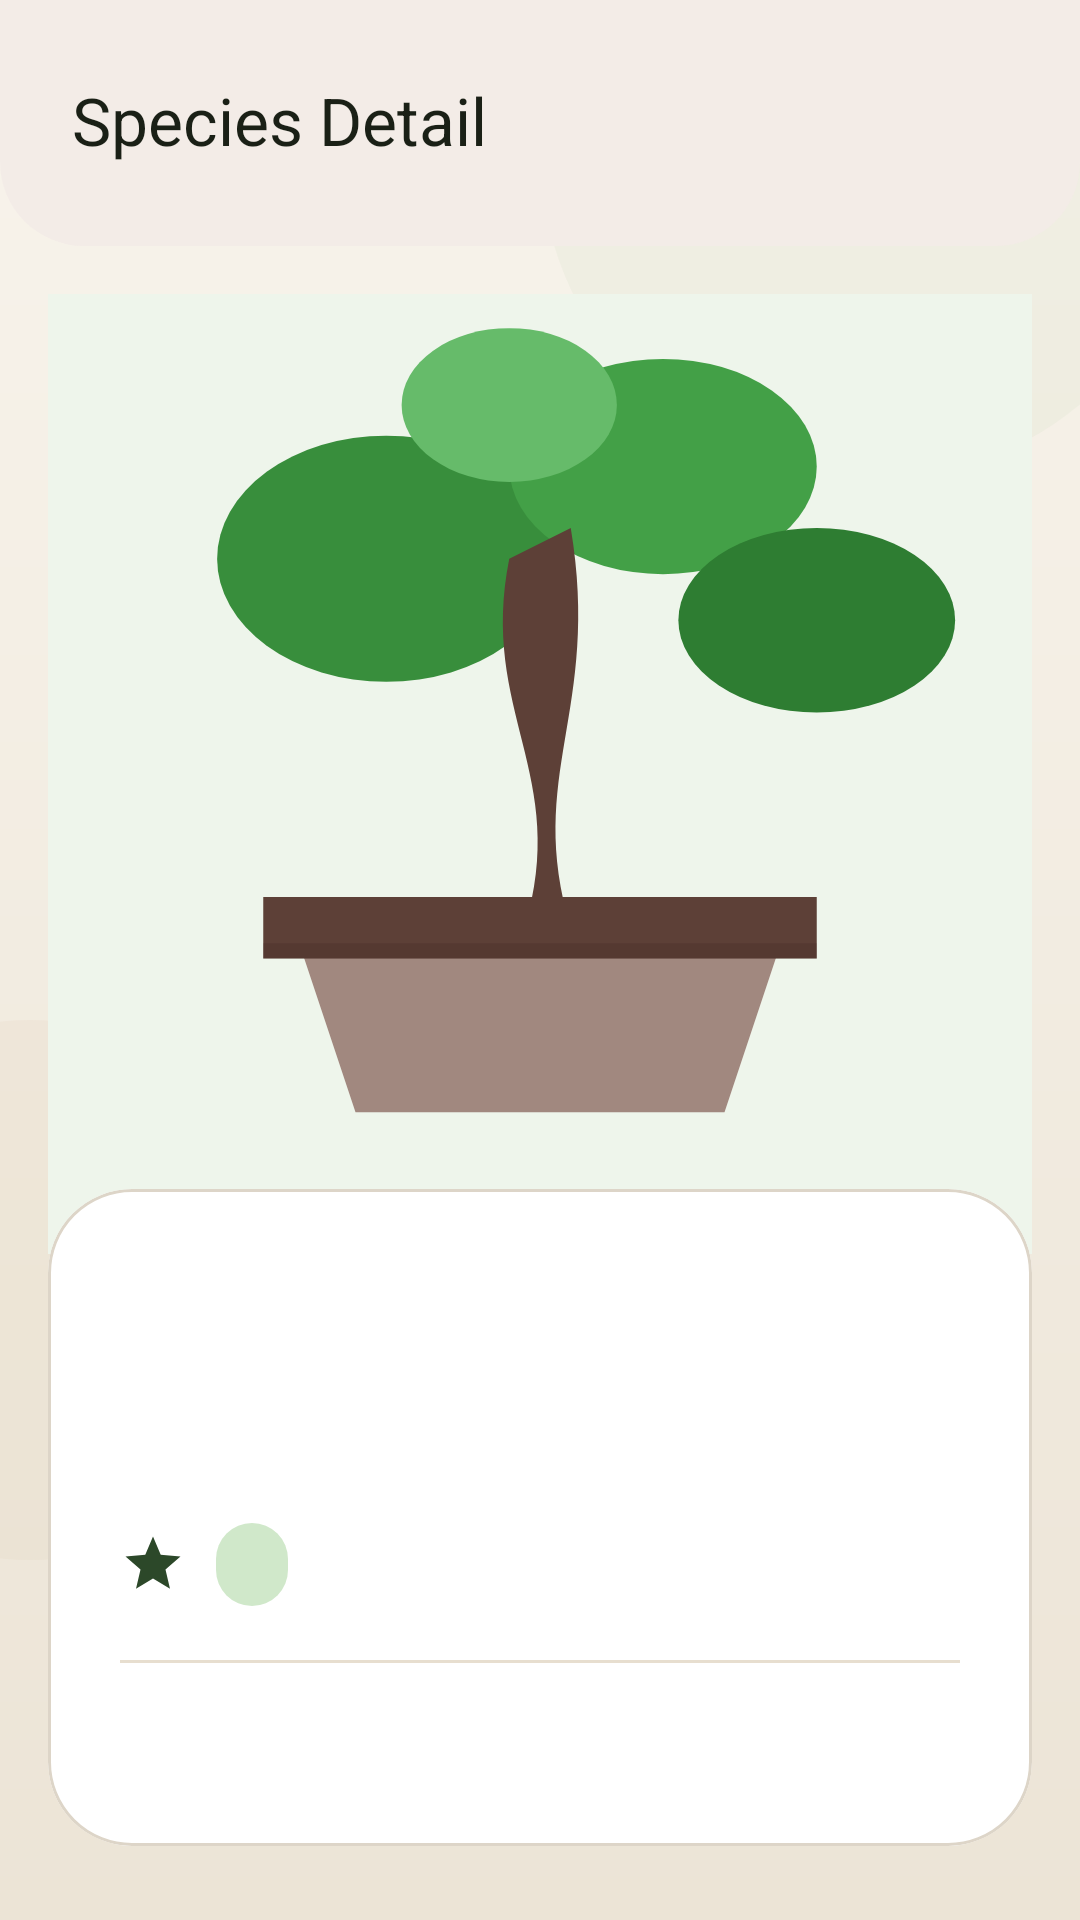

Named icons in this screenshot (1080 x 1920) and their centers, (x=x, y=y):
difficulty: (x=153, y=1563)
